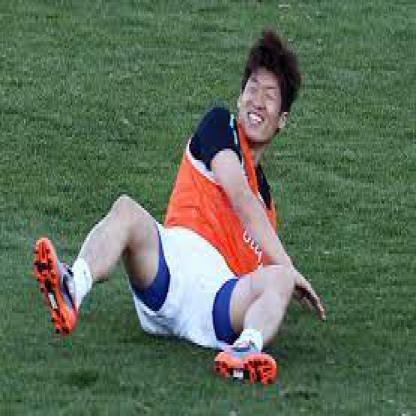Fall_Down: (31, 32, 328, 386)
